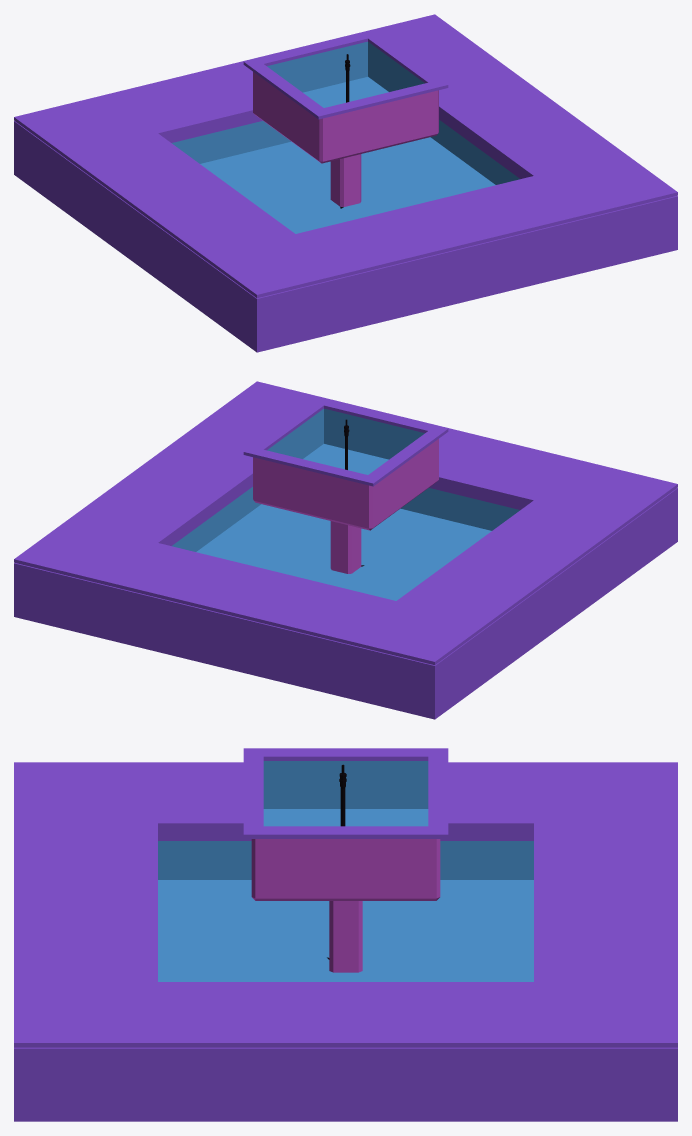
The model's file is fuente.fbx.
The picture shows the model from 3 angles, top to bottom: view 1: azimuth 30°, elevation 25°; view 2: azimuth 150°, elevation 25°; view 3: azimuth 270°, elevation 25°; orthographic projection. The views are drawn at different scales.
Visible parts, largest first — view 1: Fuente; view 2: Fuente; view 3: Fuente.
Boxes of the visible parts, bbox=[...] form: Fuente: bbox=[14, 14, 677, 352]; Fuente: bbox=[14, 381, 677, 719]; Fuente: bbox=[14, 748, 677, 1121].
Size of the model in its own units: 2.93 by 1.12 by 2.93.
